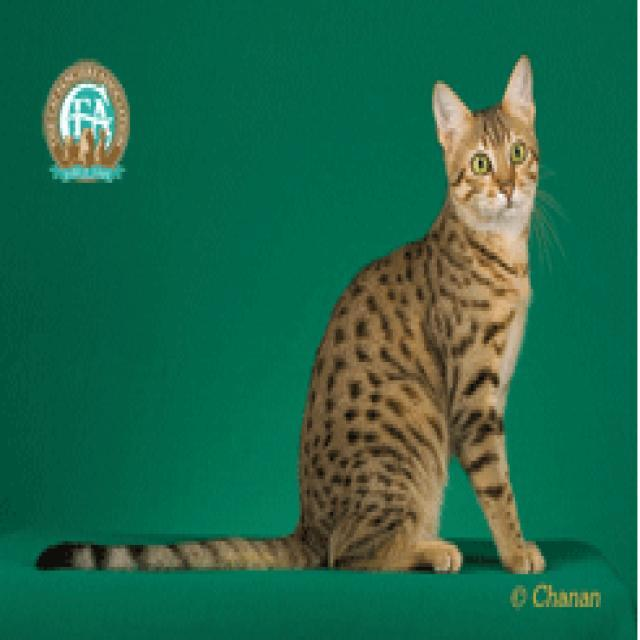Egyptian_Mau: (432, 55, 546, 255)
